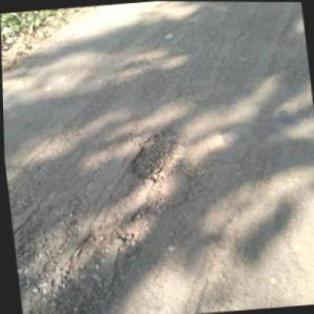Hueco: (122, 126, 189, 186)
